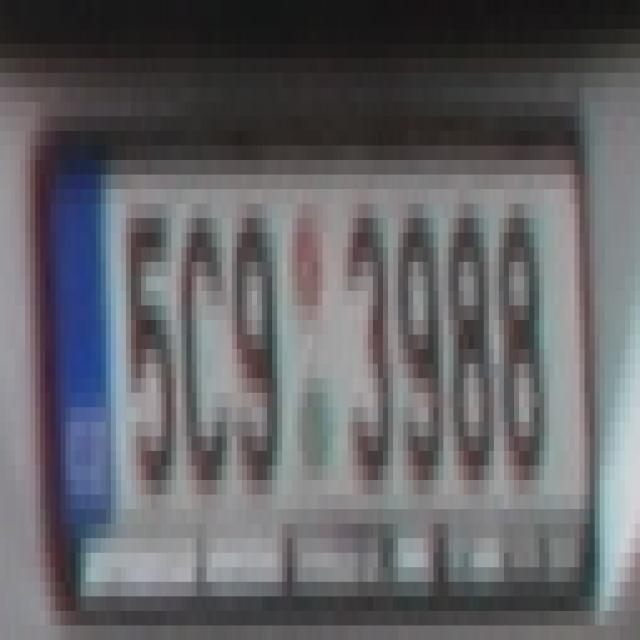3: (333, 175, 388, 494)
5: (116, 204, 171, 480)
8: (499, 204, 549, 480), (443, 204, 489, 480)
9: (232, 189, 282, 495), (393, 203, 444, 494)
C: (181, 218, 227, 480)
